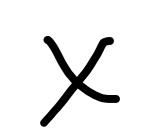mult: (40, 35, 120, 127)
